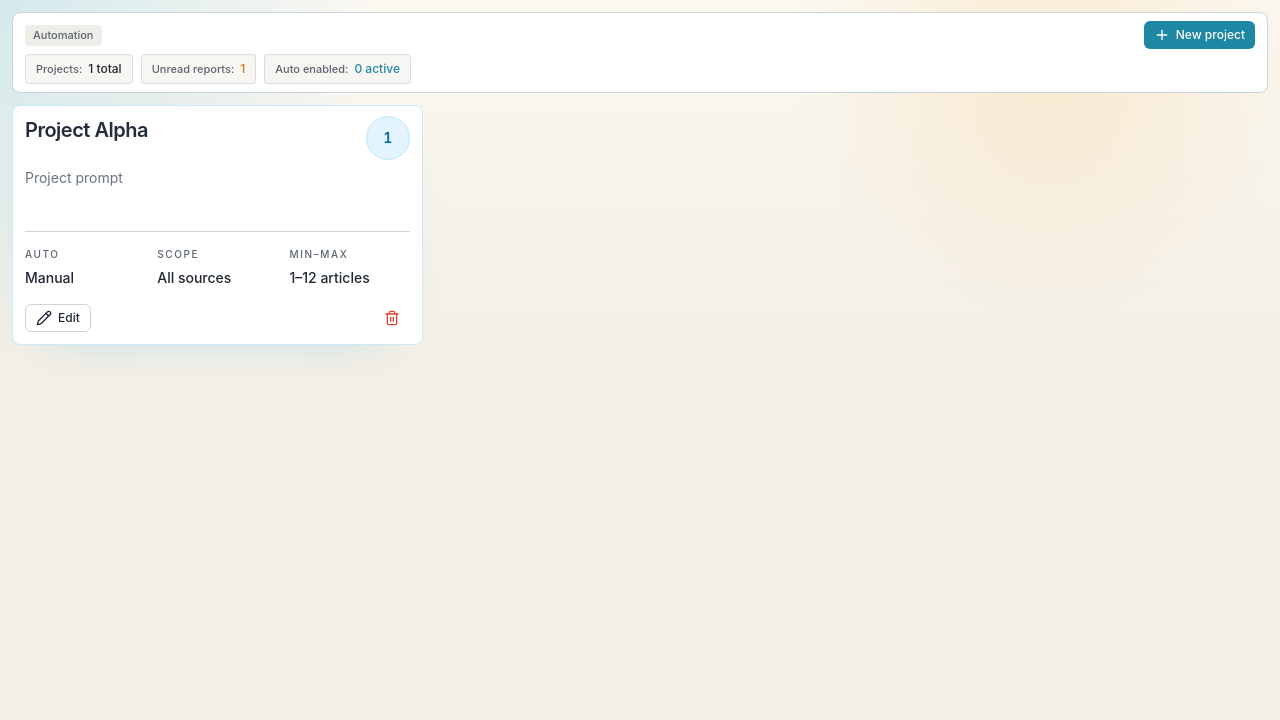
Automation › resets the manual candidate page and scroll when including previously used articles
This screenshot has width=1280, height=720.
Click the button that starts with "Project Alpha" at (86, 130), box [12, 104, 423, 344]
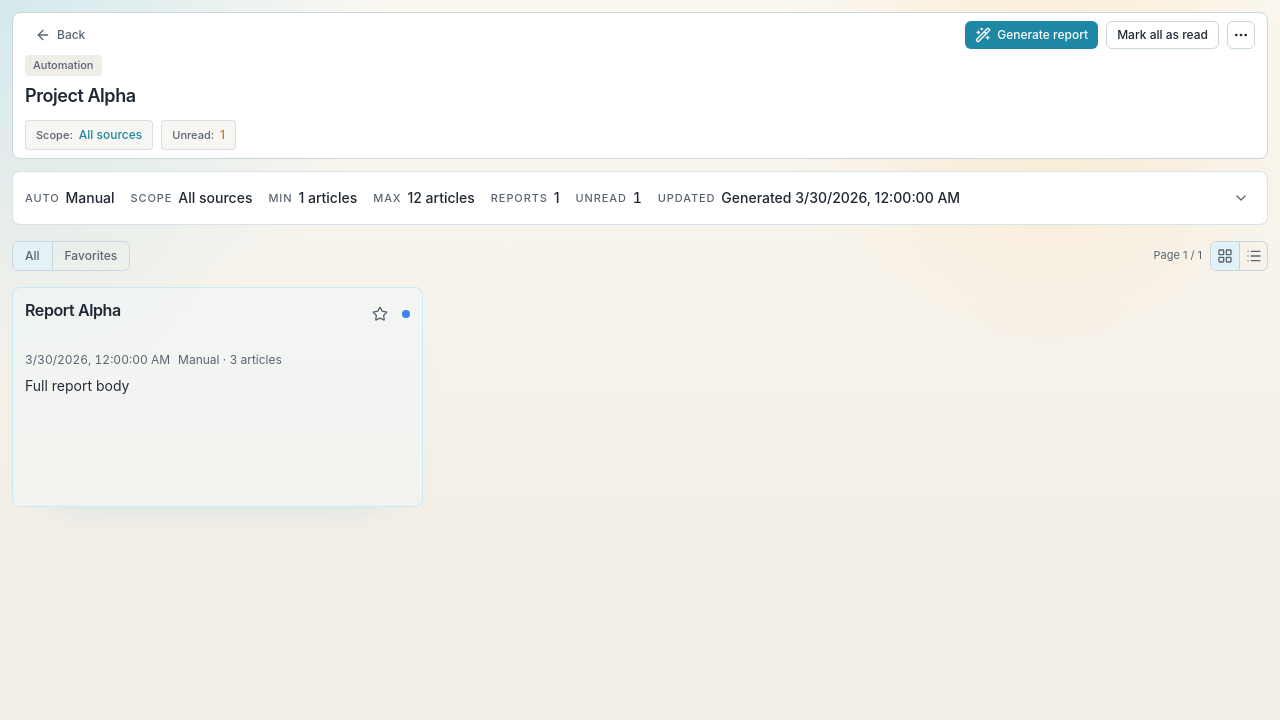
Click the button "Generate report" at (1032, 35), box [965, 21, 1098, 49]
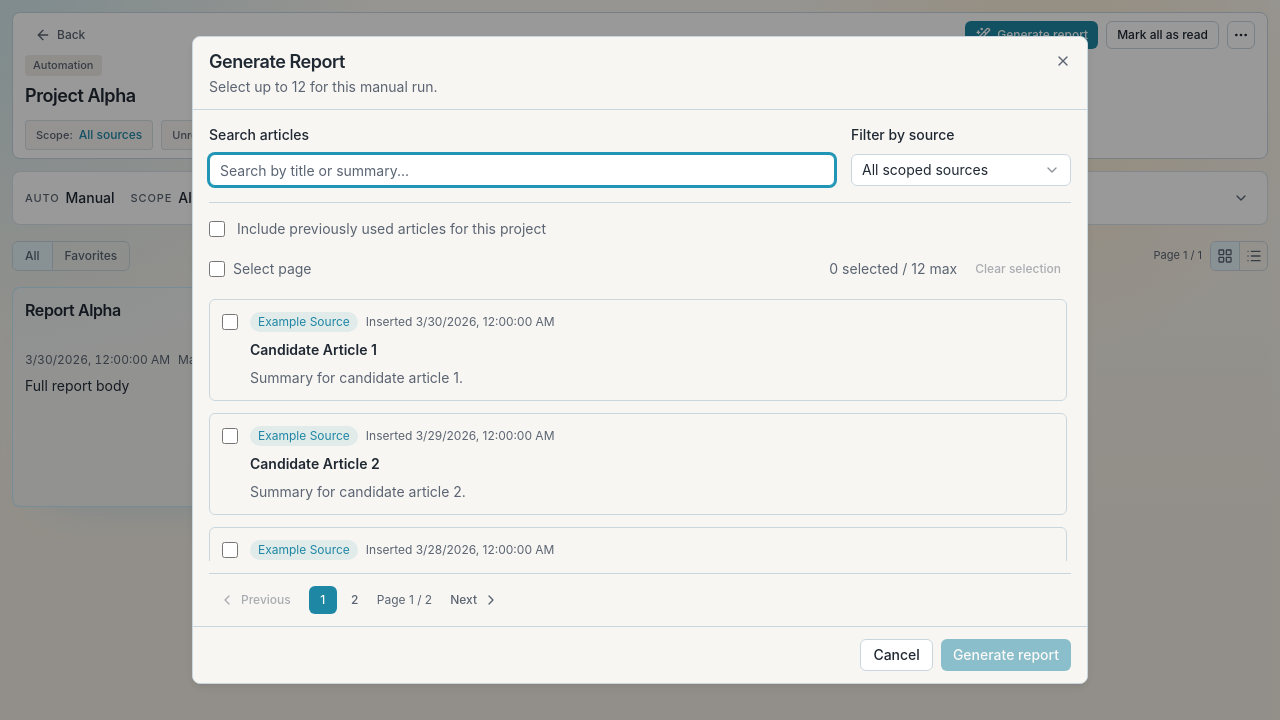
Click the button "Next" at (475, 600), box [440, 586, 509, 614]
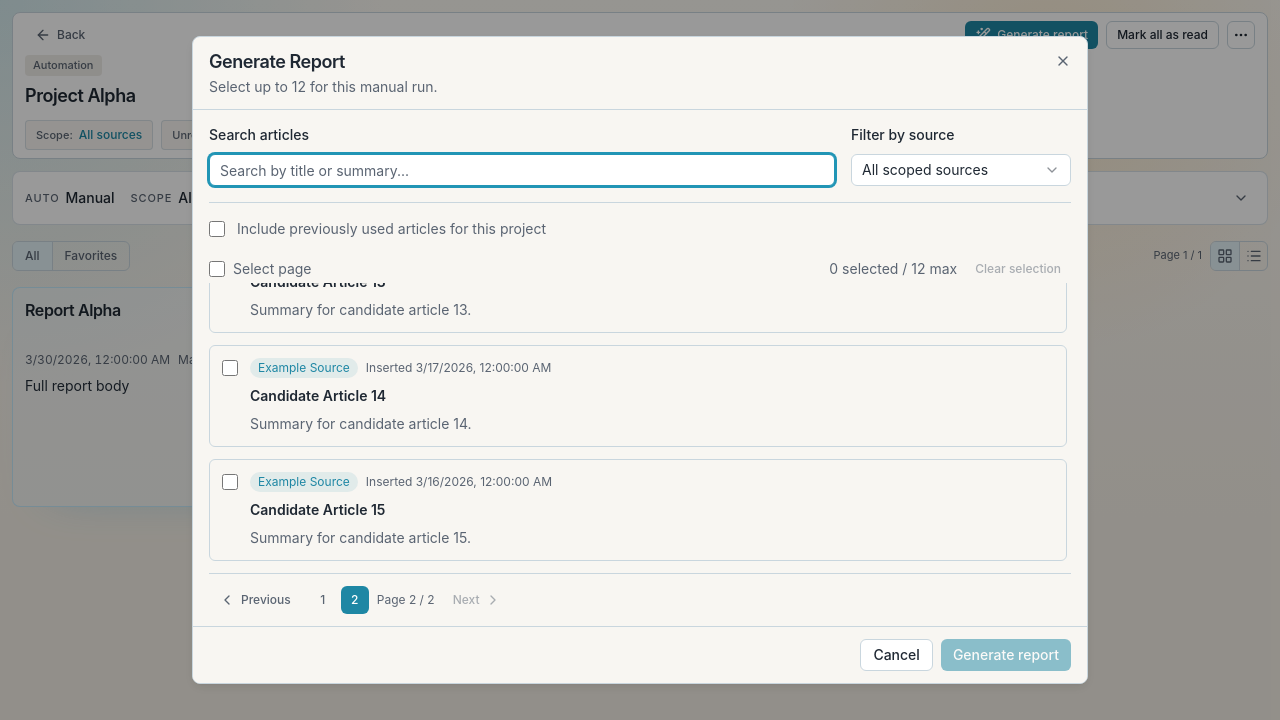
Click the checkbox labelled "Include previously used articles for this project" at (217, 229), box [209, 221, 225, 237]
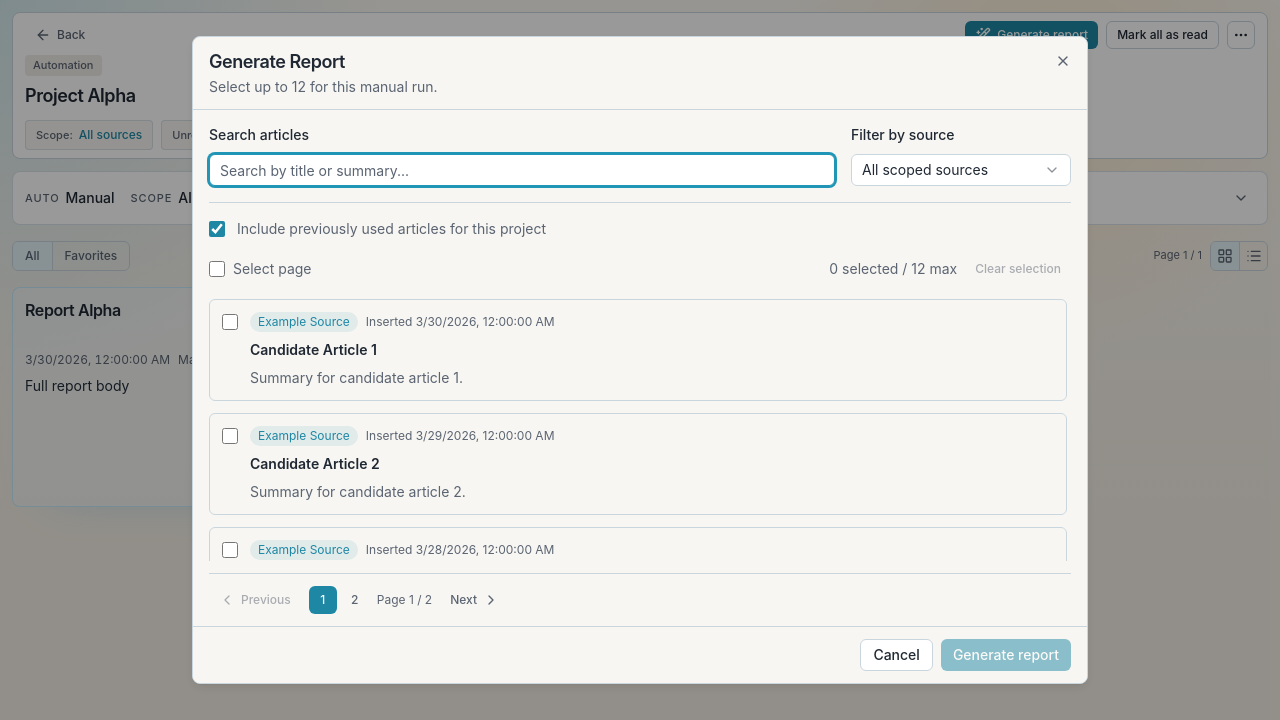
expect the text "Page 1 / 2" is shown: met, box [377, 592, 432, 608]
